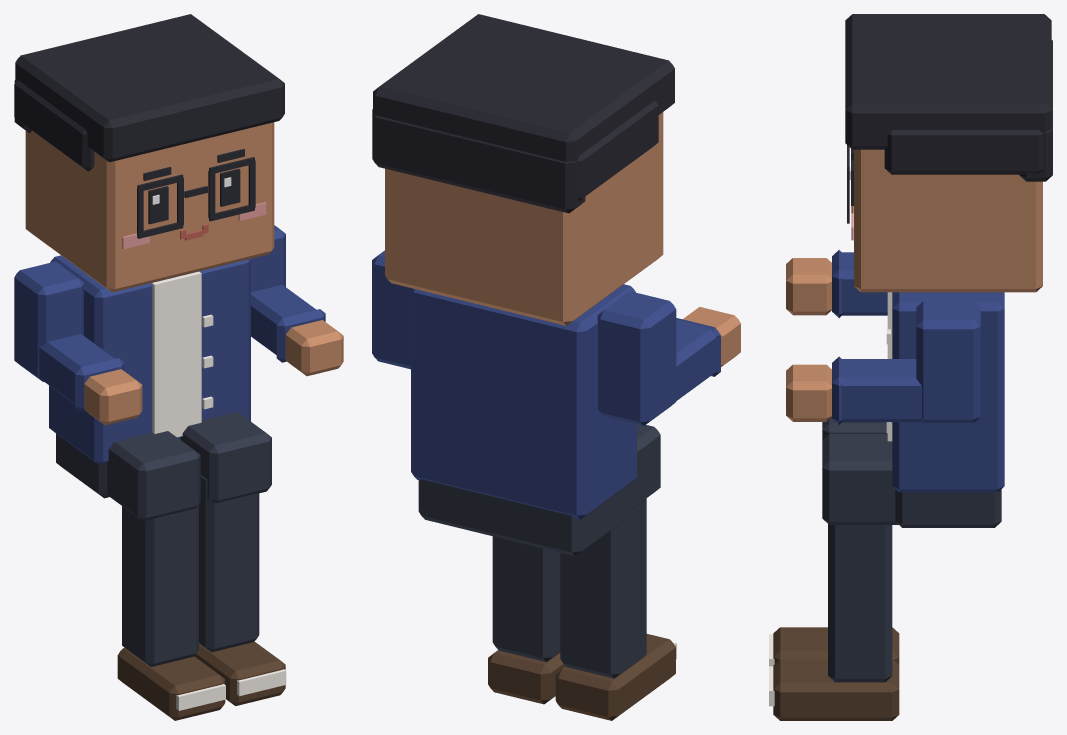
Rendered from CatCafe_NPC_Customer_I_Sit.glb.
3 views of the same model, side by side, from view 1: azimuth 30°, elevation 25°; view 2: azimuth 150°, elevation 25°; view 3: azimuth 270°, elevation 25° (orthographic). The views are drawn at different scales.
Parts seen in each view (by area): view 1: CatCafe_NPC_Customer_I_Sit; view 2: CatCafe_NPC_Customer_I_Sit; view 3: CatCafe_NPC_Customer_I_Sit.
Boxes of the visible parts, box(x1,y1,x2,y2) form: CatCafe_NPC_Customer_I_Sit: box(14, 14, 343, 720); CatCafe_NPC_Customer_I_Sit: box(372, 14, 740, 720); CatCafe_NPC_Customer_I_Sit: box(769, 14, 1052, 720).
Bounding box in the file's own units: 2.24 × 4.99 × 2.02.
1 material, 1 textured.
